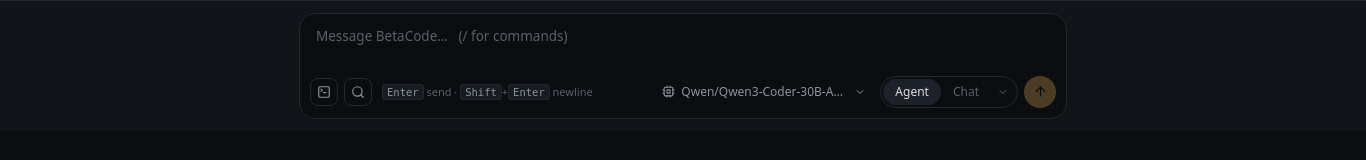
Test: Composer › suggests slash commands and completes them
Type "/com" into the text box labelled "Message BetaCode" at {"x": 683, "y": 42}, box [300,14,1066,70]
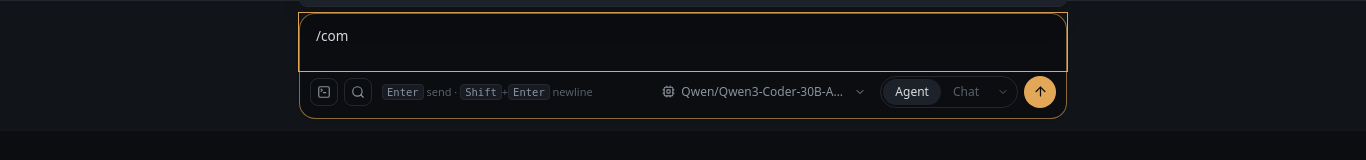
Press Enter
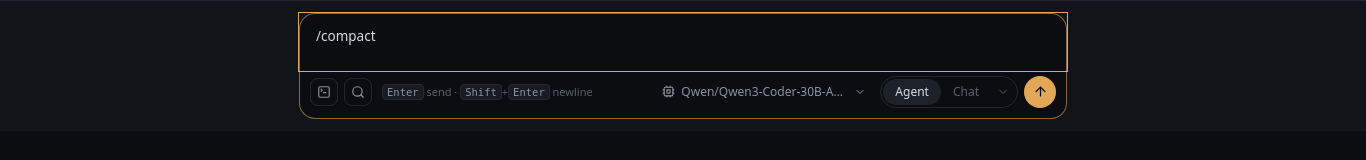
Expected: the text box named "Message BetaCode" holds "/compact ", [300,14,1066,70]
